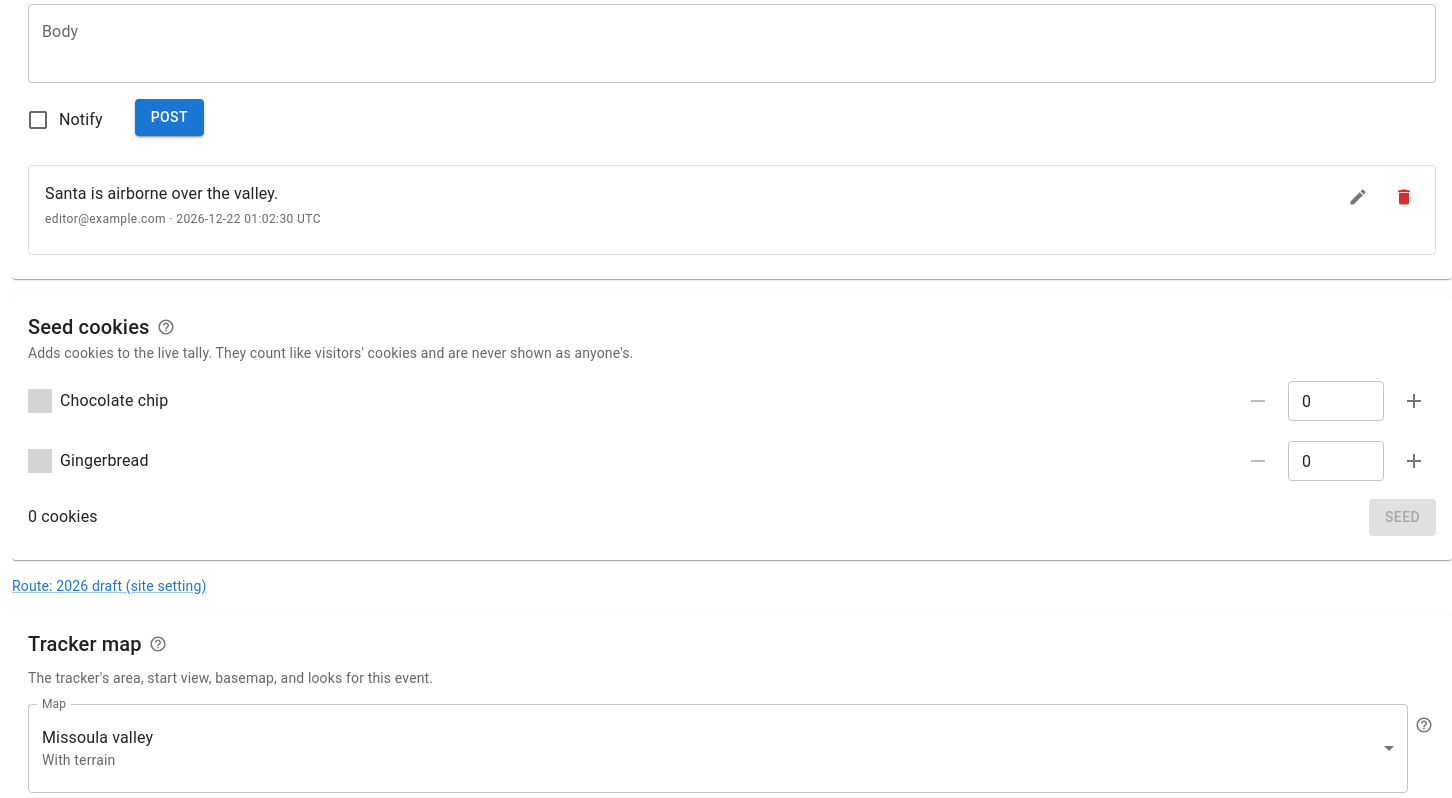
SeedCookiesSection: counts › steps and typing clamp to 0 and 100
The width and height of the screenshot is (1452, 798).
(page scrolled)
Expected: the number field named "Chocolate chip cookies" holds "0", 1288,381 -> 1384,421
Expected: the button named "One fewer Chocolate chip" is disabled, 1236,379 -> 1280,423
Click the button named "One more Chocolate chip" at (1414, 401), box 1392,379 -> 1436,423
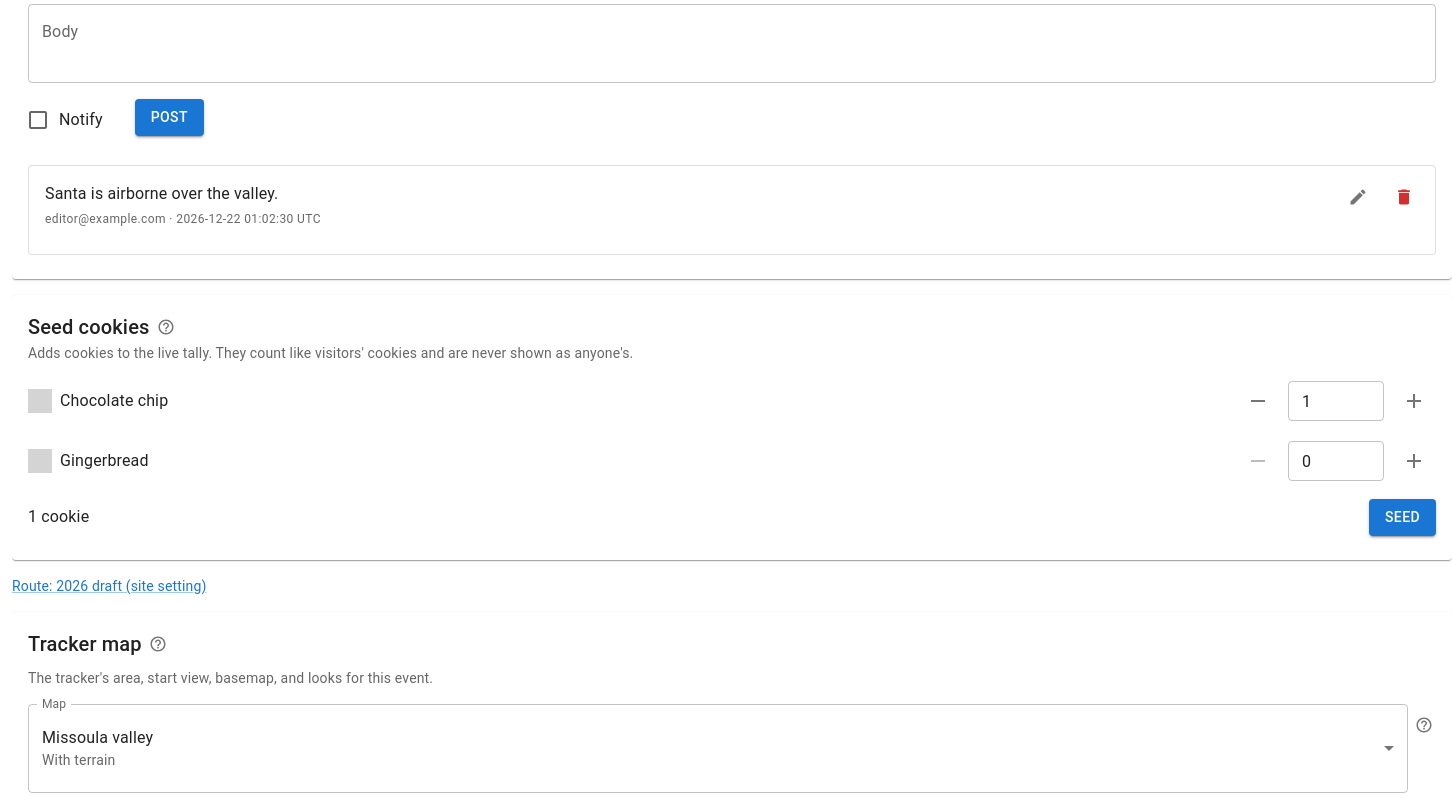
Click the button named "One more Chocolate chip" at (1414, 401), box 1392,379 -> 1436,423
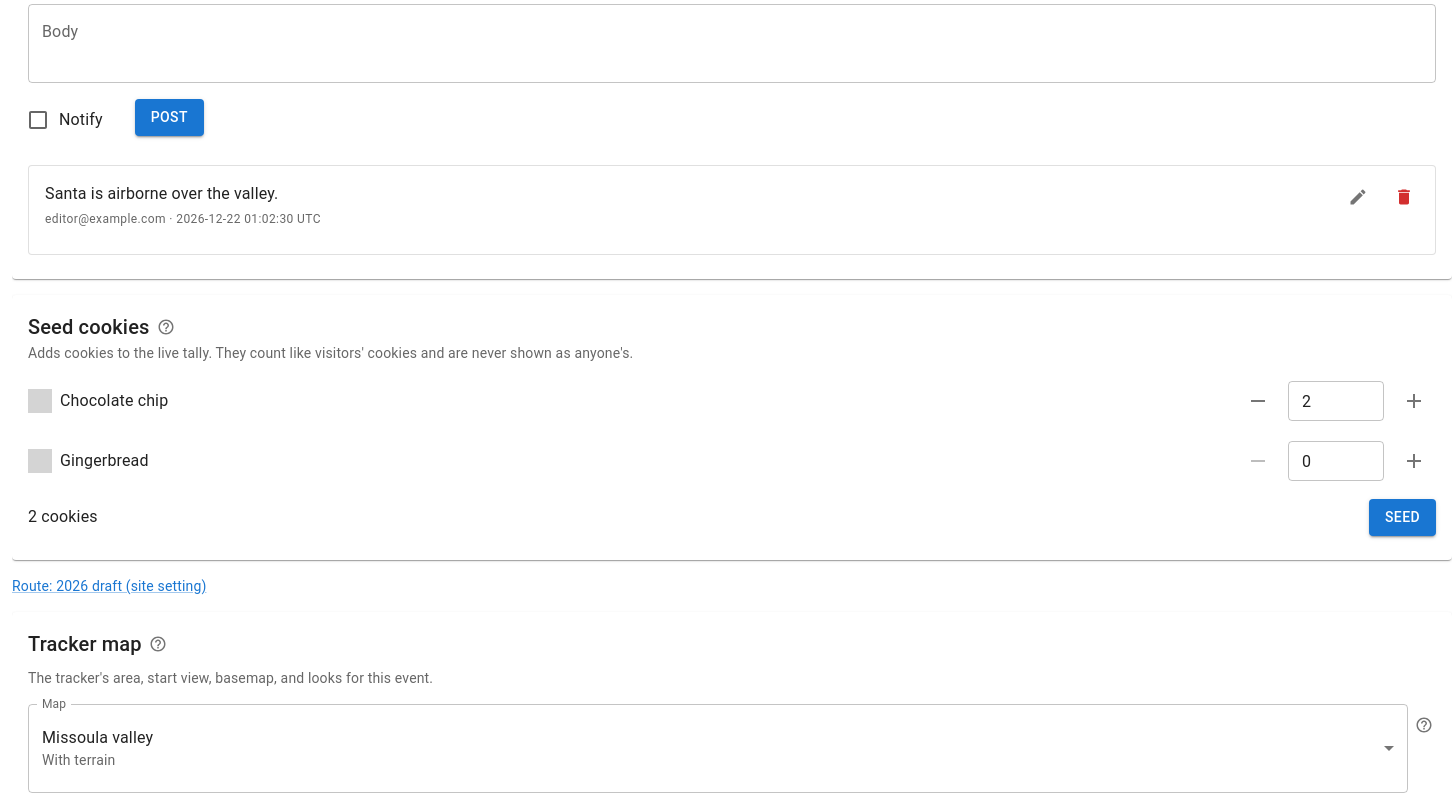
Expected: the number field named "Chocolate chip cookies" holds "2", 1288,381 -> 1384,421
Click the button named "One fewer Chocolate chip" at (1258, 401), box 1236,379 -> 1280,423
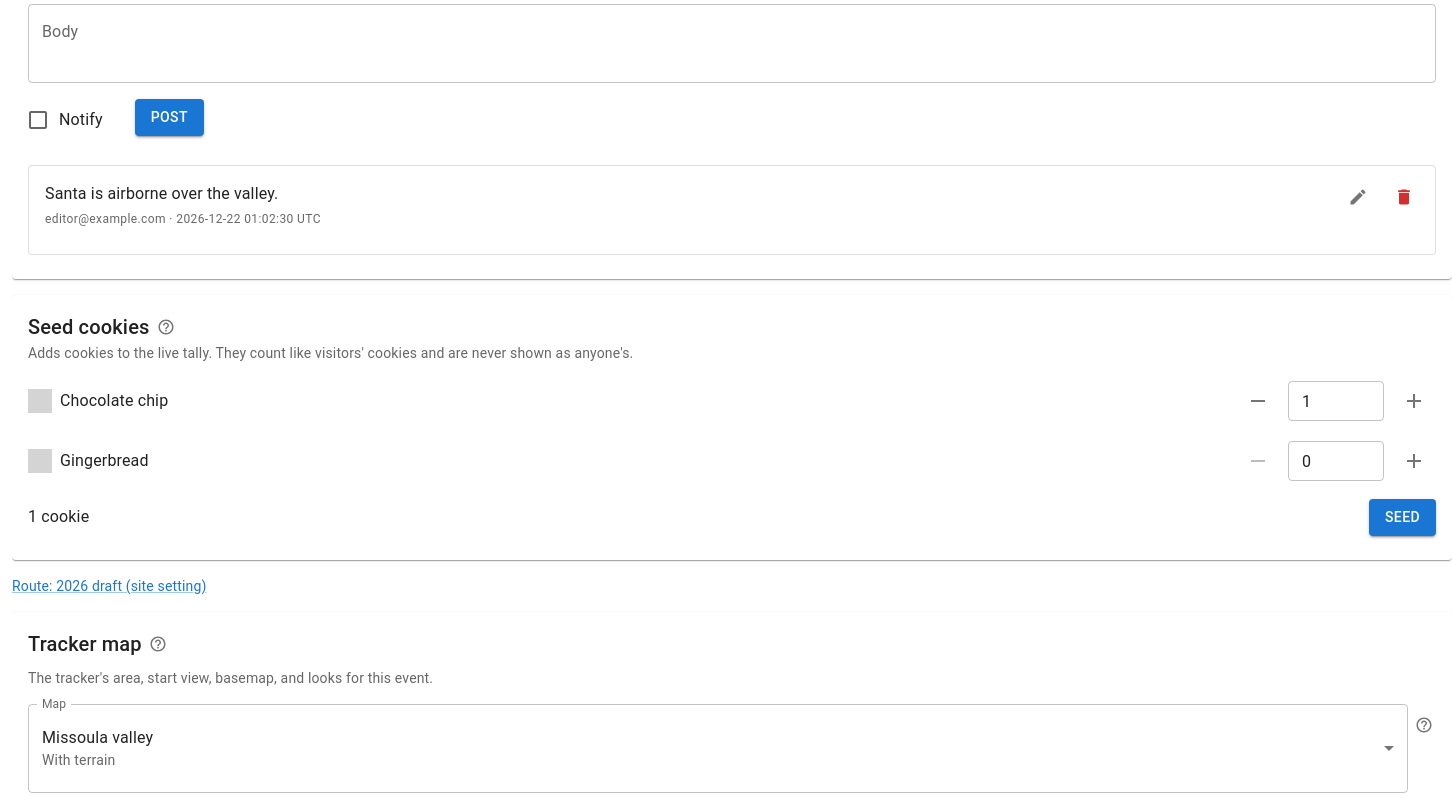
Expected: the number field named "Chocolate chip cookies" holds "1"
Expected: the heading with test id "seed-total" reads "1 cookie", 28,508 -> 89,526
Replace the text in the number field named "Chocolate chip cookies" with "250" at (1336, 401), box 1288,381 -> 1384,421
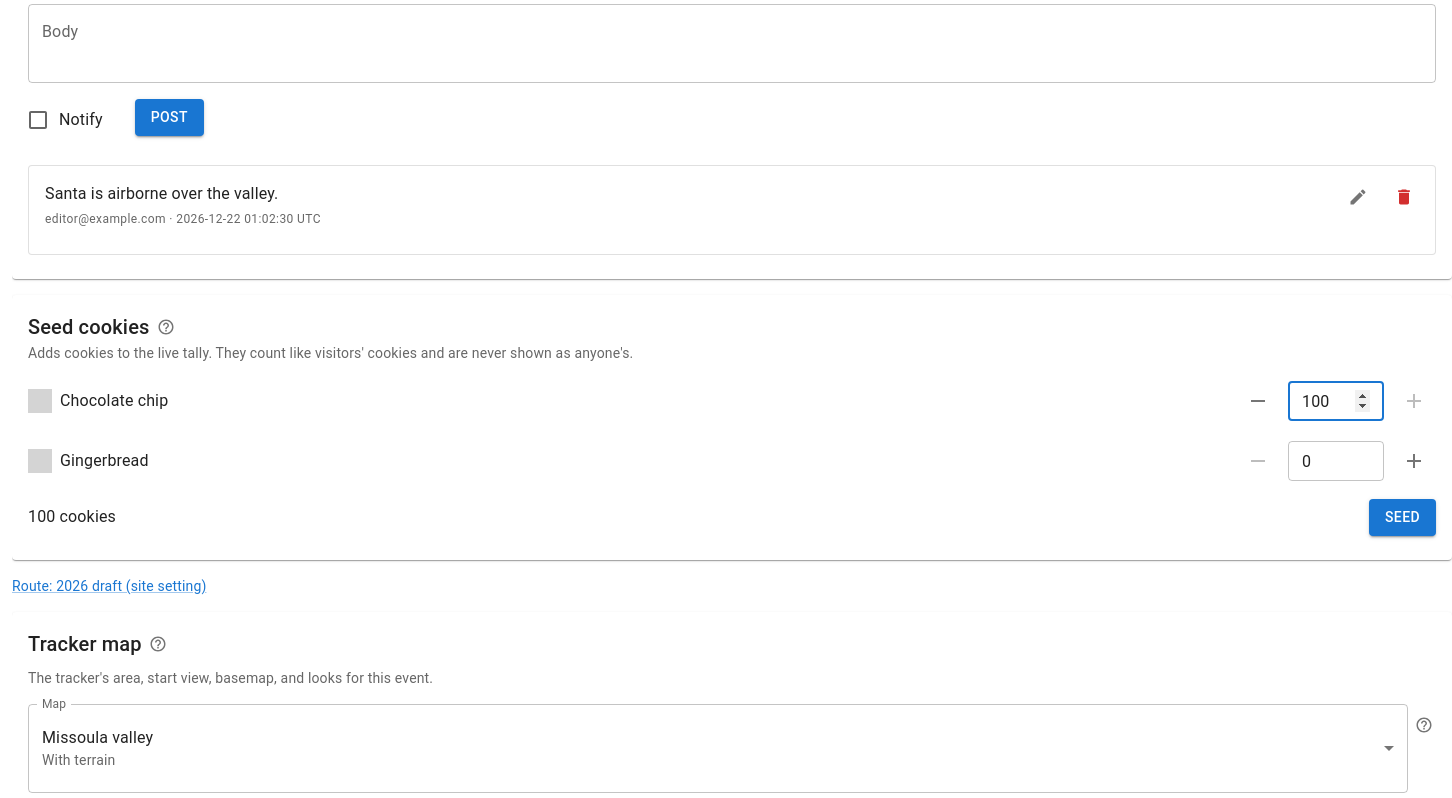
Expected: the number field named "Chocolate chip cookies" holds "100"
Expected: the button named "One more Chocolate chip" is disabled, 1392,379 -> 1436,423
Replace the text in the number field named "Chocolate chip cookies" with "-5" at (1336, 401), box 1288,381 -> 1384,421
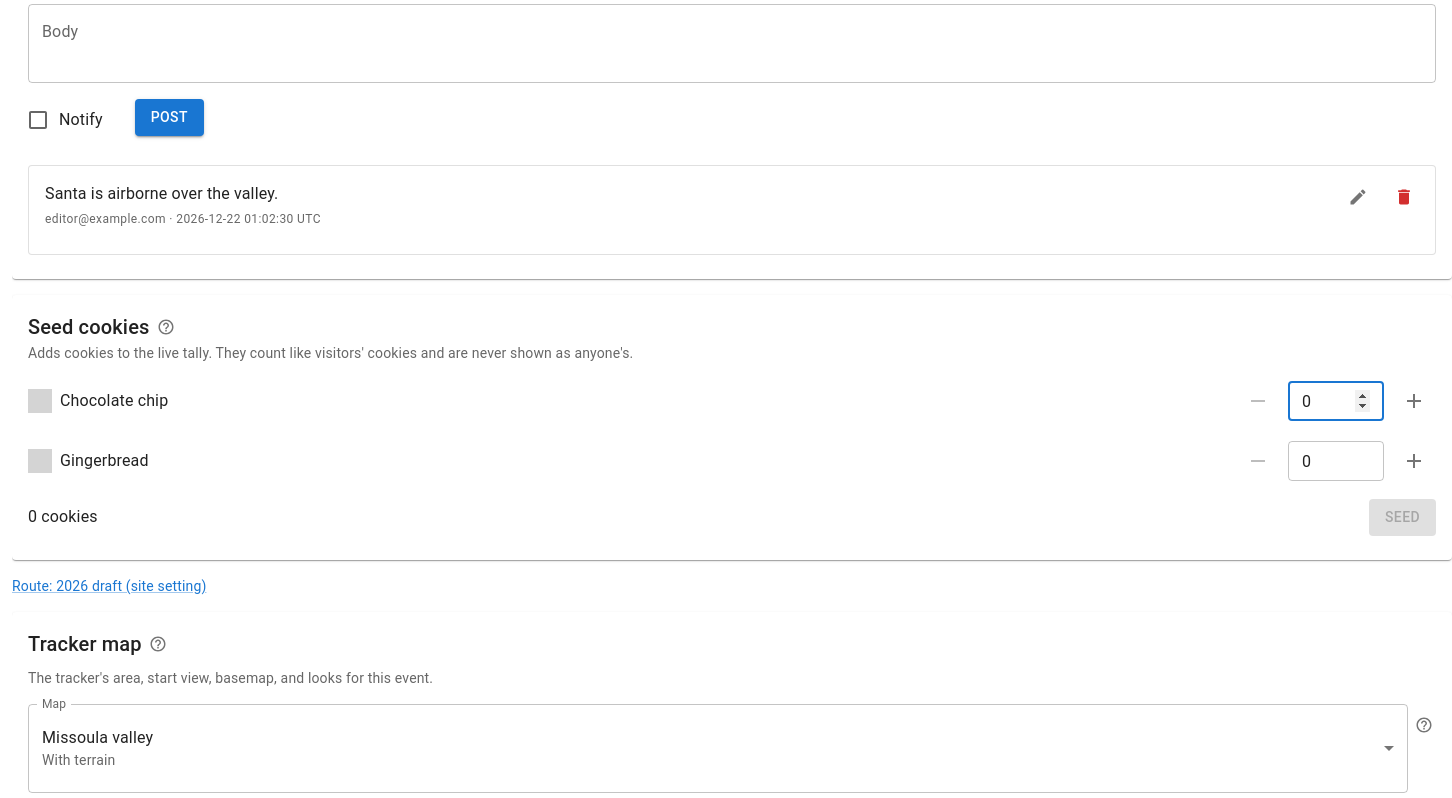
Expected: the number field named "Chocolate chip cookies" holds "0", 1288,381 -> 1384,421
